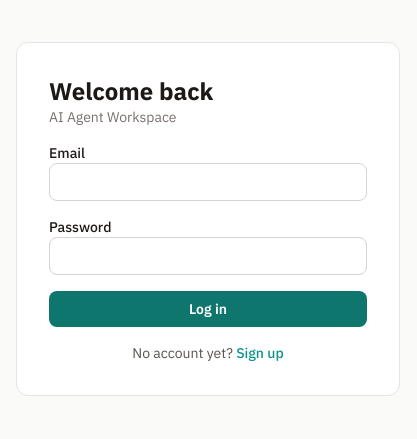
Scenario: AuthForm › shows the server's error message and stays on the page
Type "ada@example.com" into the field labelled "Email". click: (208, 182)
box: x1=49 y1=163 x2=367 y2=201
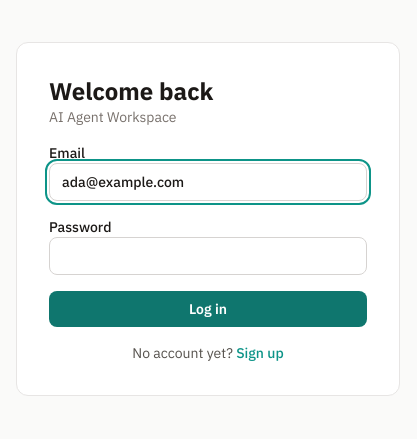
Type "wrong" into the password field labelled "Password". click: (208, 256)
box: x1=49 y1=237 x2=367 y2=275
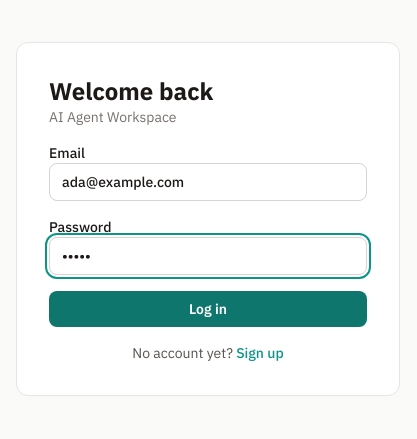
Click the button "Log in". click: (208, 309)
box: x1=49 y1=291 x2=367 y2=327
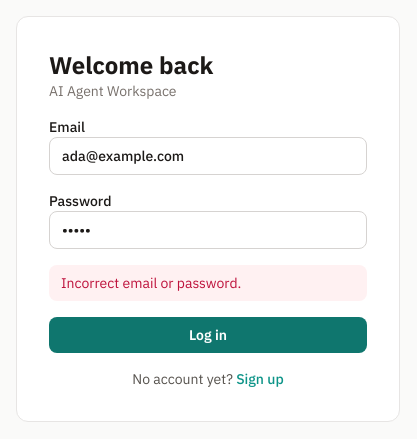
Now the message reads "Incorrect email or password.", box x1=61 y1=274 x2=241 y2=292
